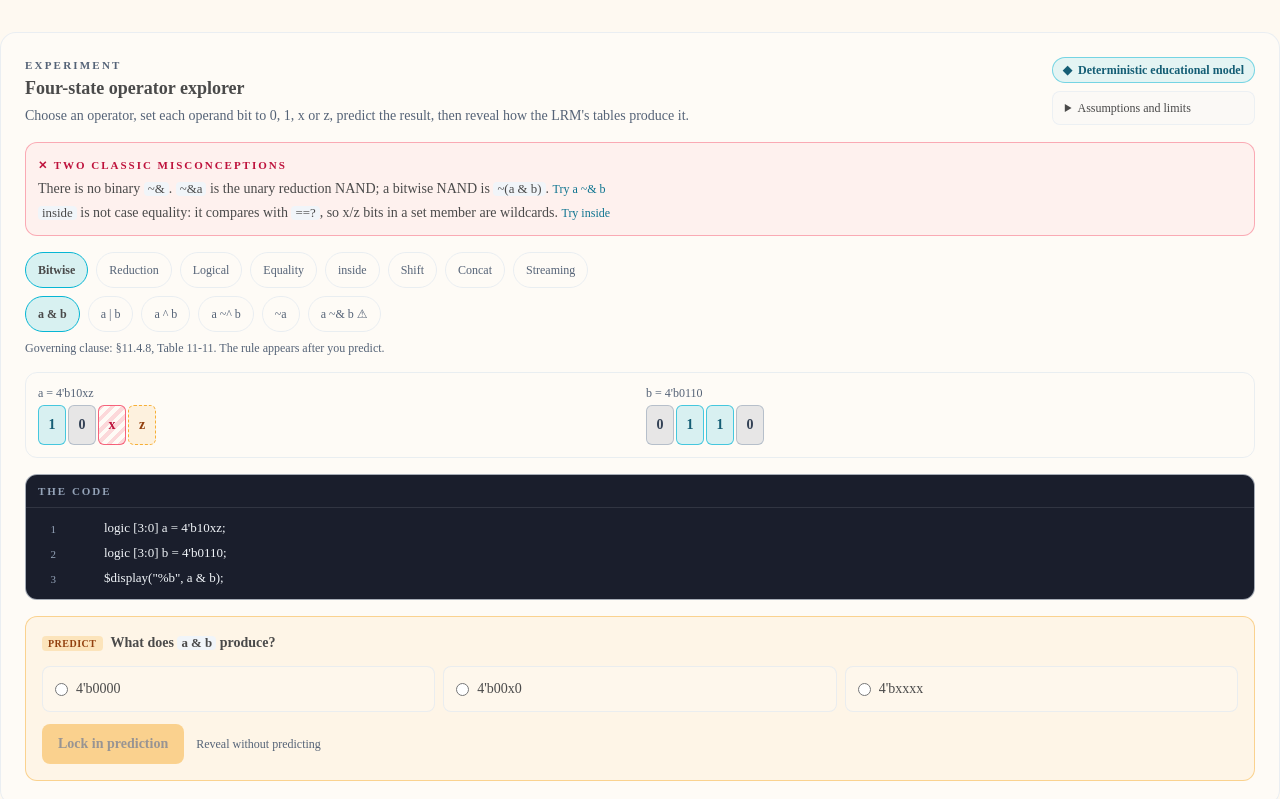
Scenario: OperatorExplorer › editing a bit cycles 0 → 1 → x → z, re-runs the model and resets the prediction
Click the button "Reveal without predicting": (258,744) [196, 736, 321, 752]
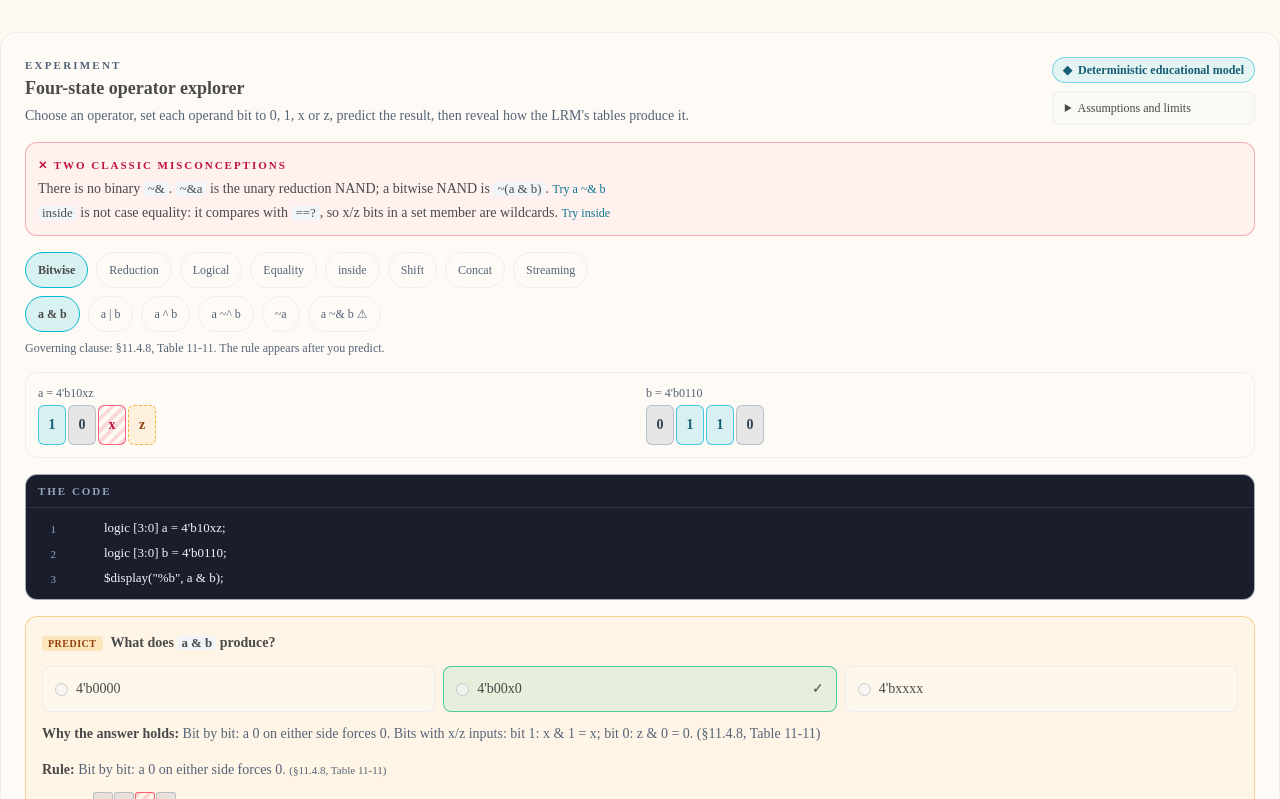
Click the button named "b bit 3 is 0; press to change to 1": (660,424) [646, 404, 674, 444]
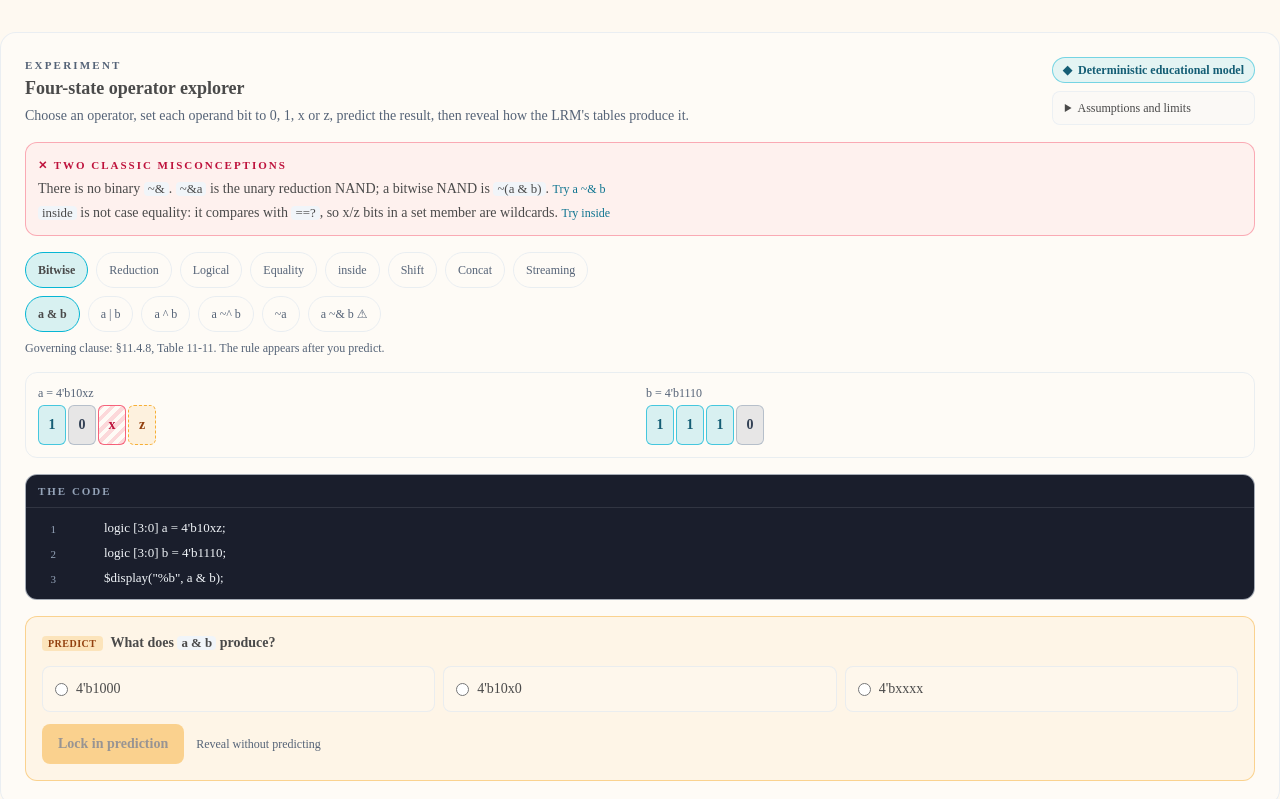
Now the text "logic [3:0] b = 4'b1110;" is shown, box [104, 545, 226, 560]
